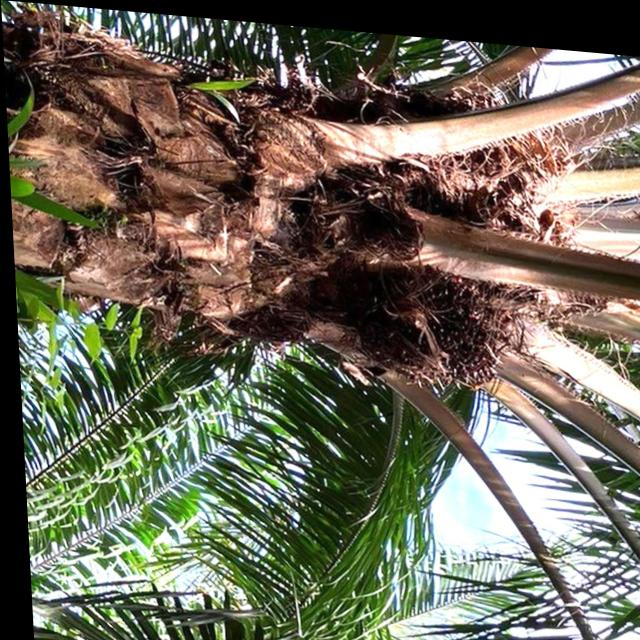ripe: (334, 247, 508, 393)
